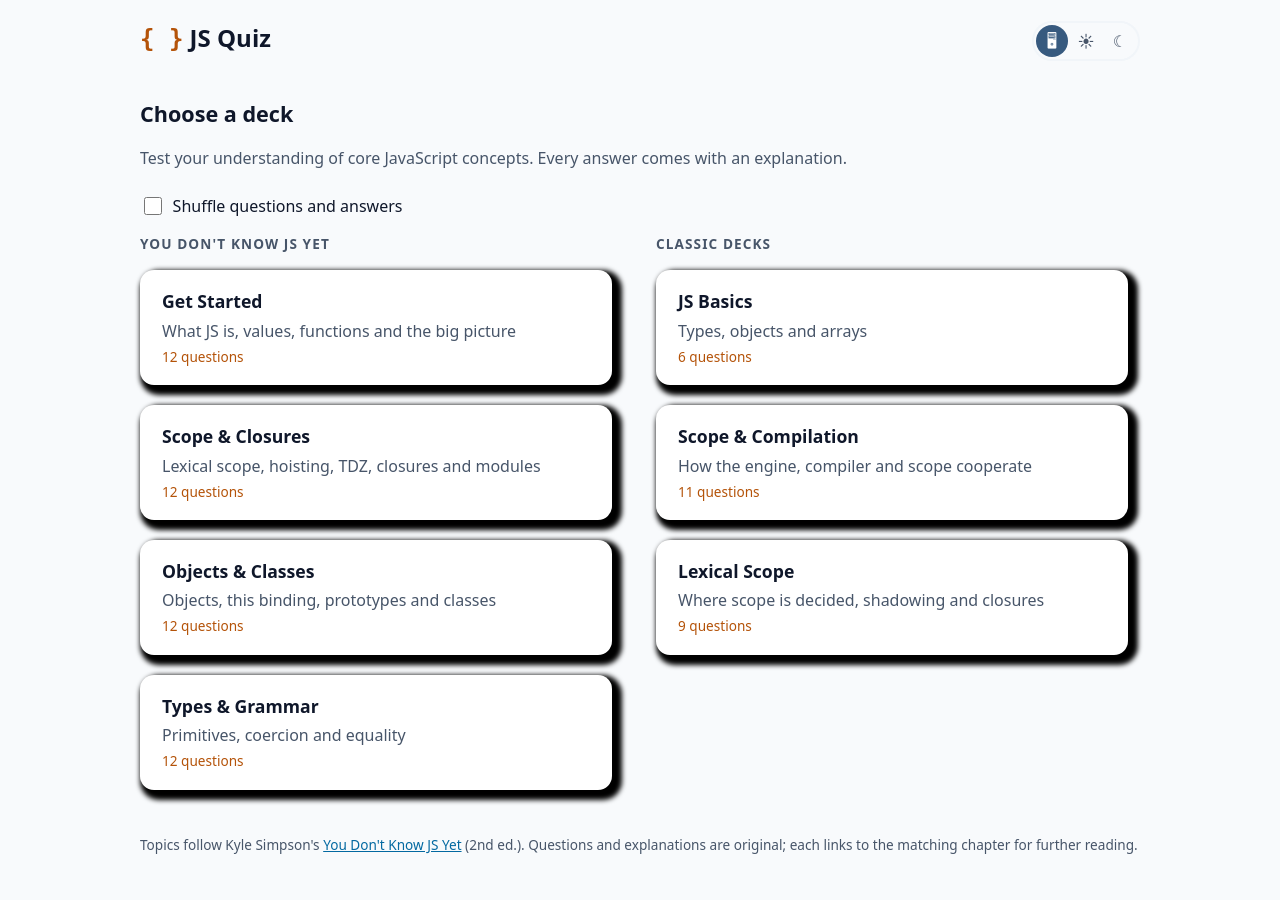
Test: App › starts the chosen deck and shows explanation + highlight after a wrong answer
The width and height of the screenshot is (1280, 900).
Click the button "Lexical Scope" at (892, 597), box [656,540,1128,655]
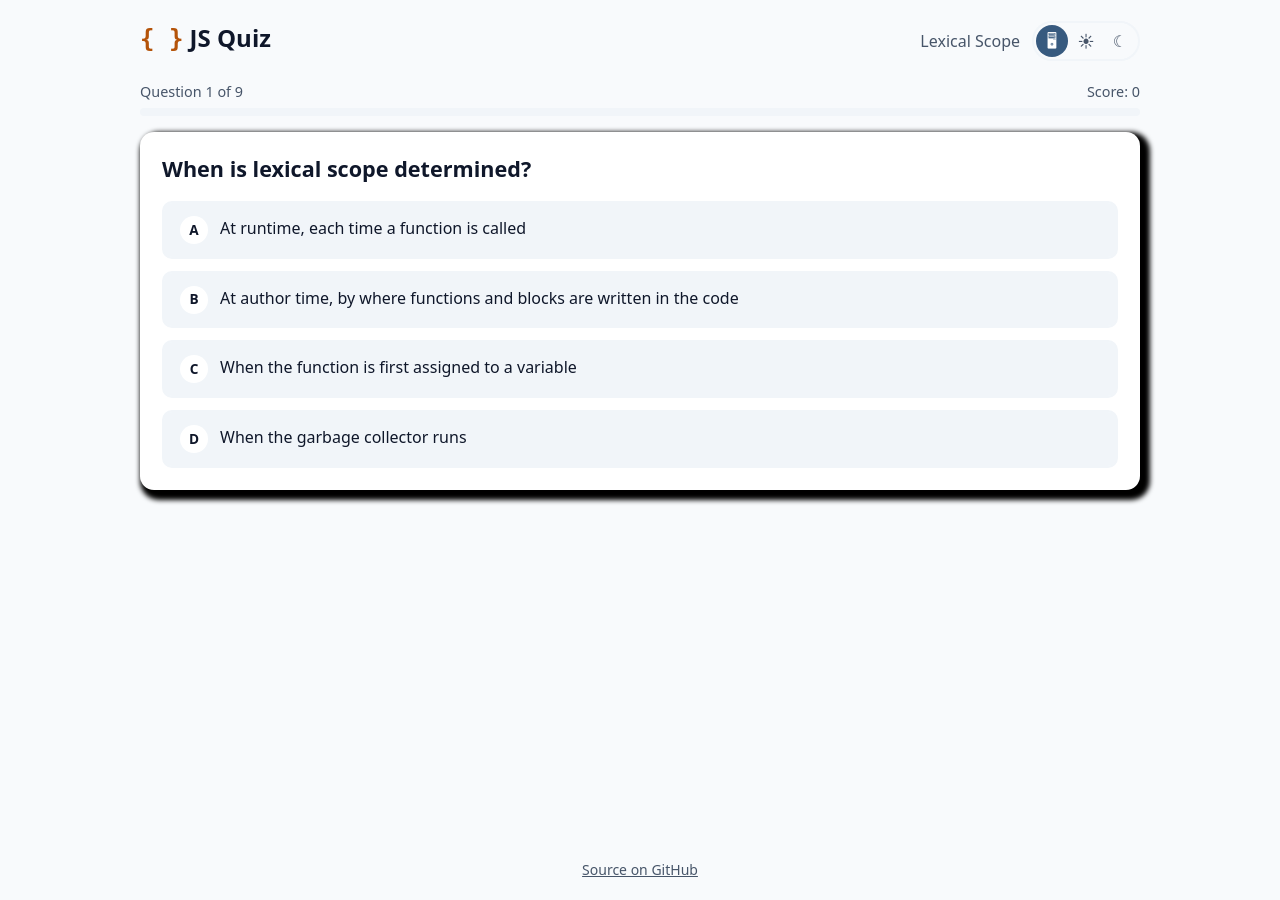
Check: the text "Question 1 of 9" is shown, box [140,81,243,103]
Click the button "A At runtime, each time a function is called" at (373, 228), box [162,201,1118,259]
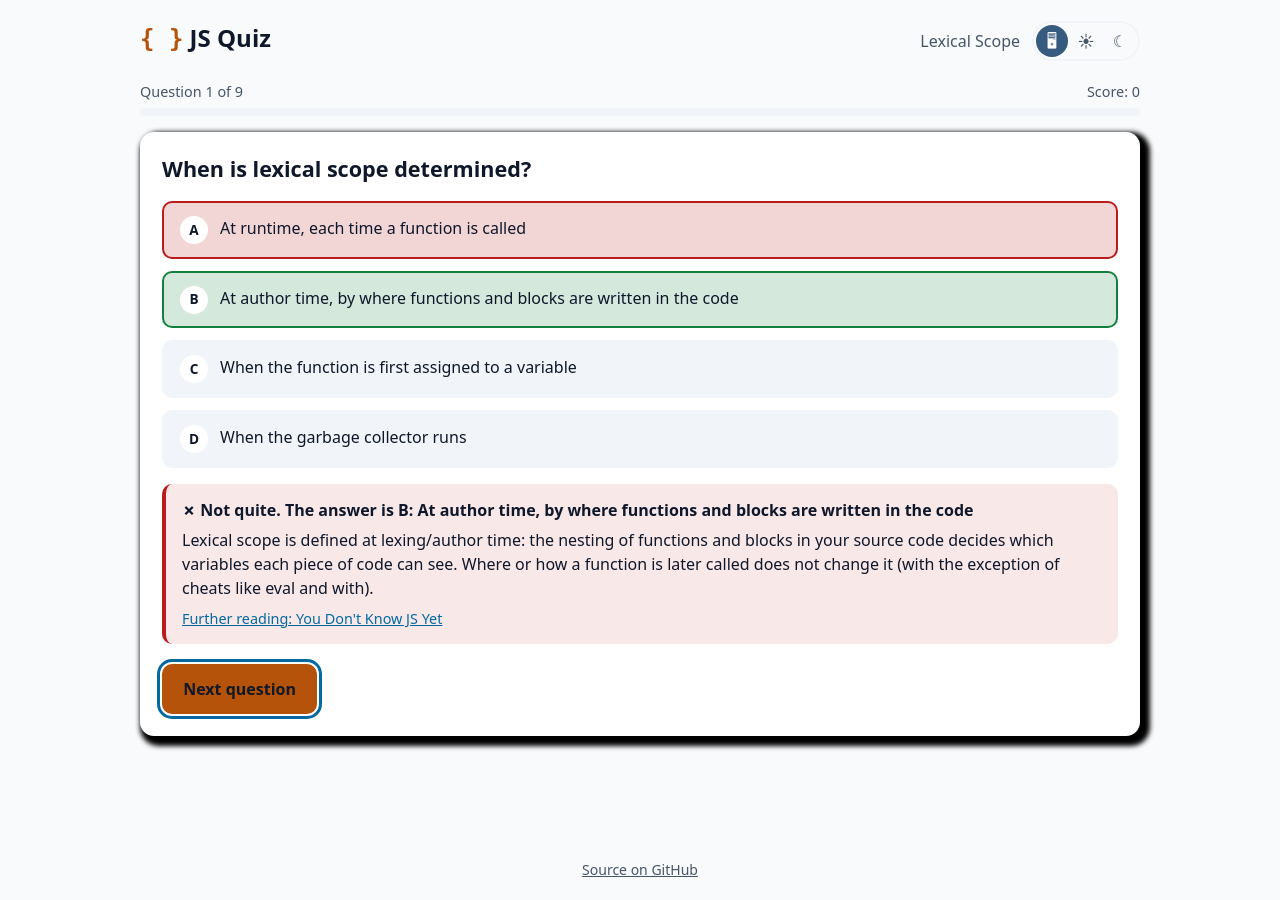
Check: the message shows "Lexical scope is defined at lexing/author time: the nesting of functions and blocks in your source code decides which variables each piece of code can see. Wher", box [182,529,1060,599]
